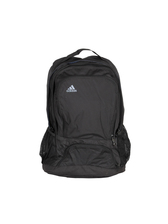bag: (23, 42, 136, 180)
